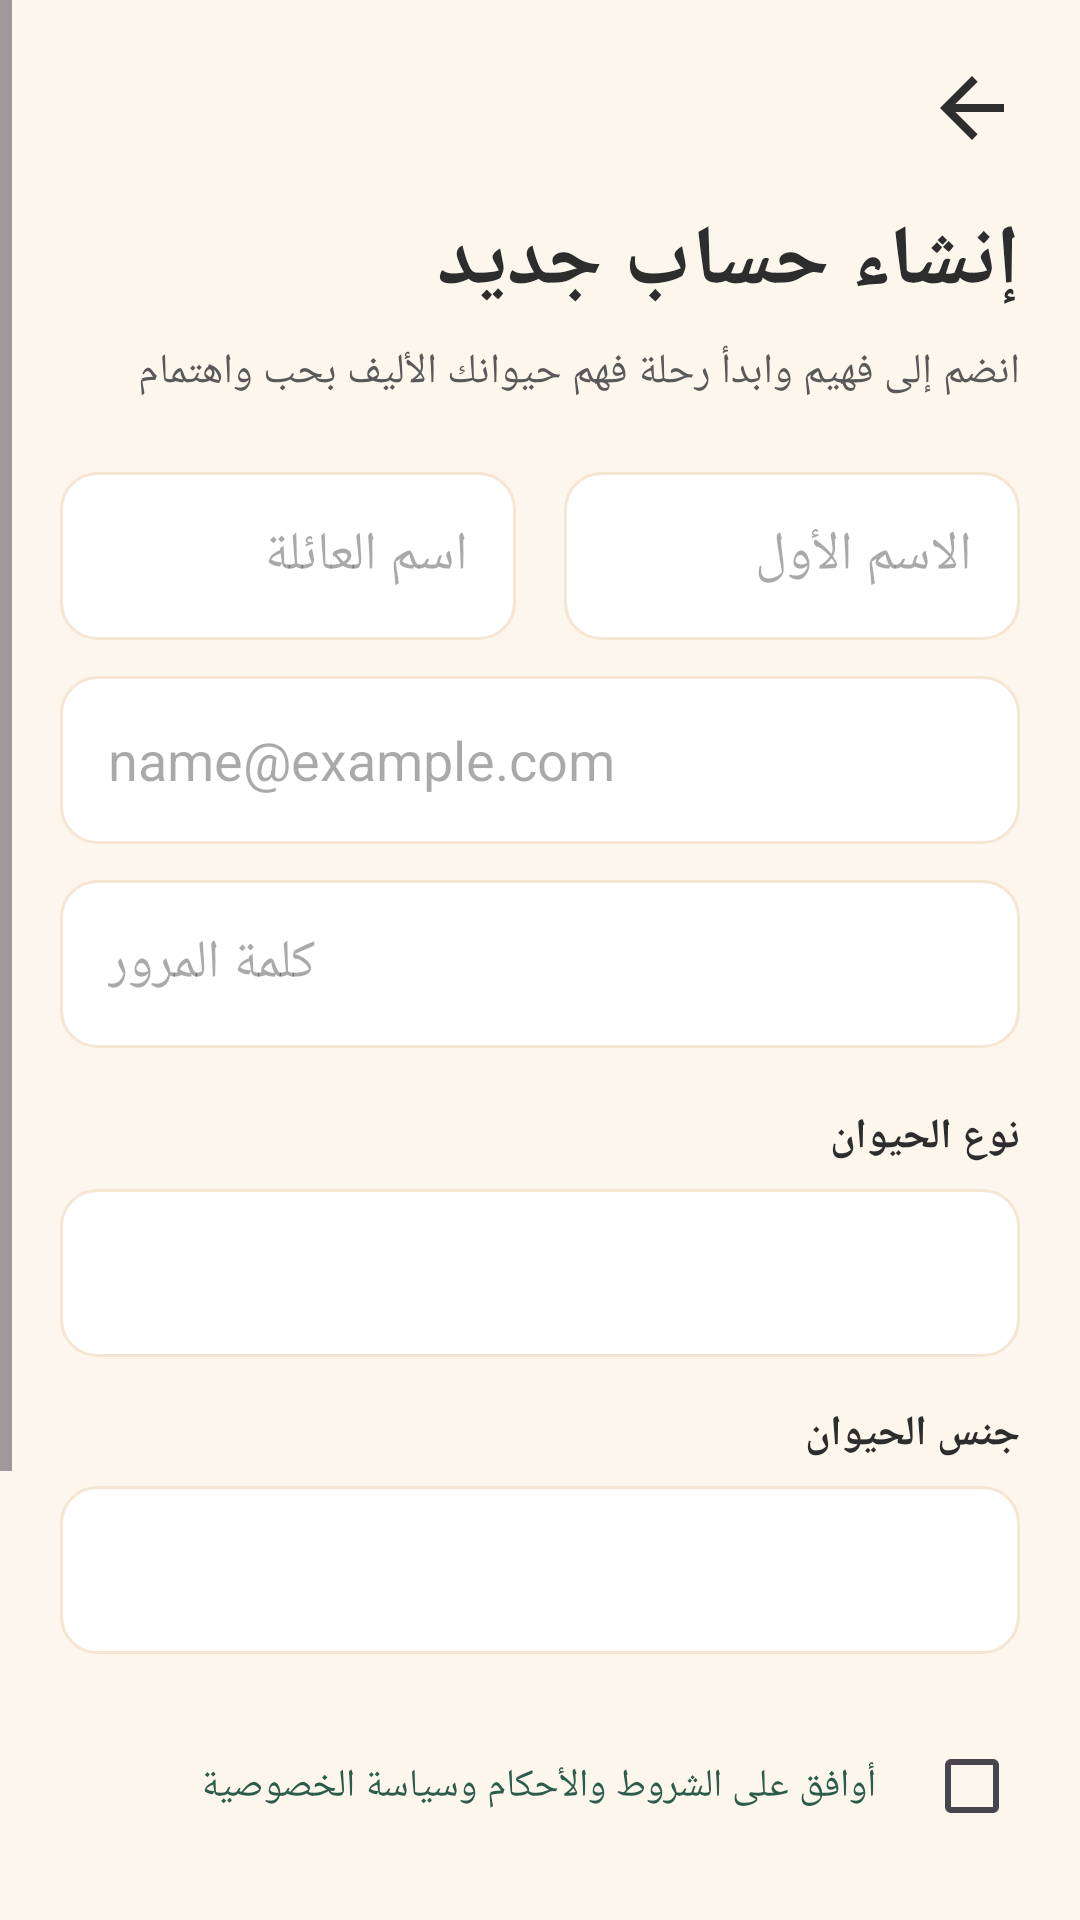

Icons on this 1080px x 1920px Android screen, each with its box as (x1, y1, x2, y2):
رجوع: (940, 76, 1004, 140)
